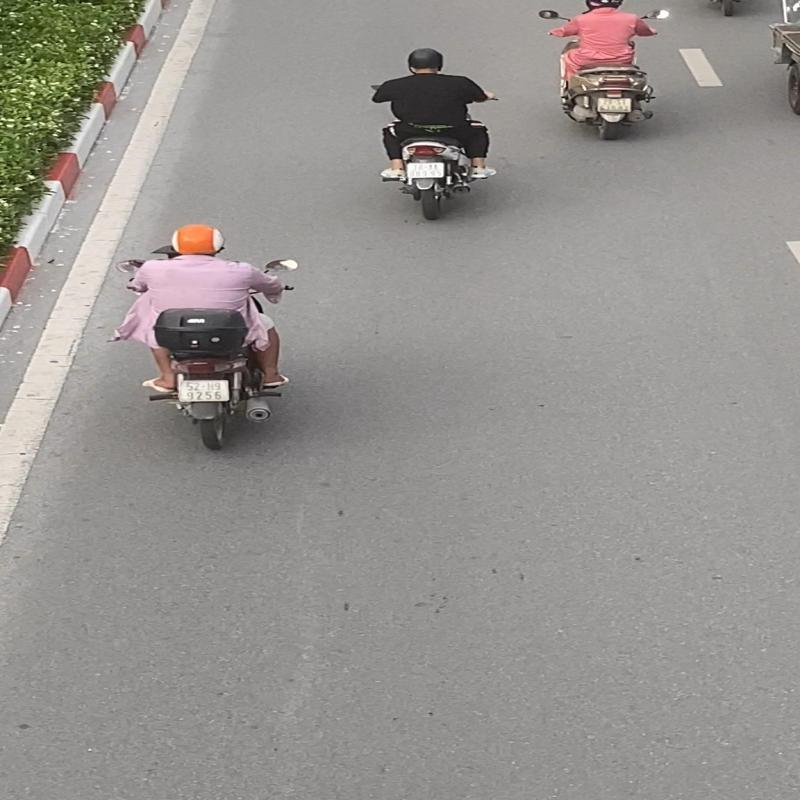helmet: (174, 223, 226, 255), (408, 48, 442, 71)
licenseplate: (178, 380, 230, 402), (406, 162, 444, 178)
motorcyclist: (117, 223, 297, 450), (370, 48, 497, 220)
